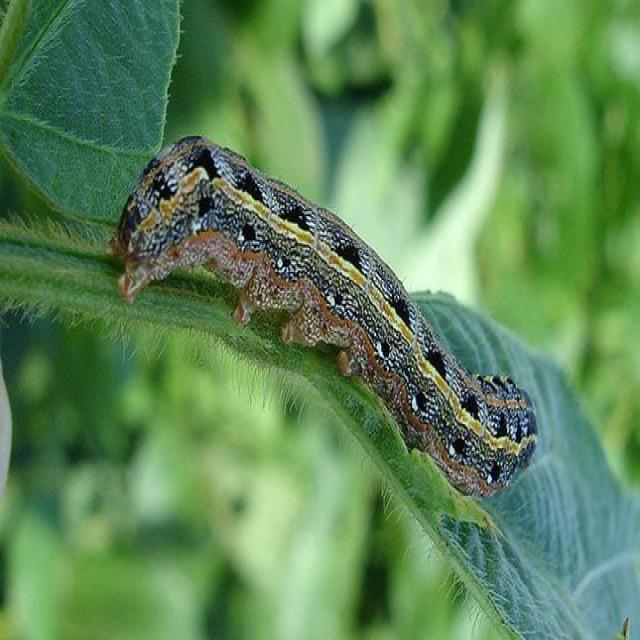Plaga: (105, 113, 549, 518)
